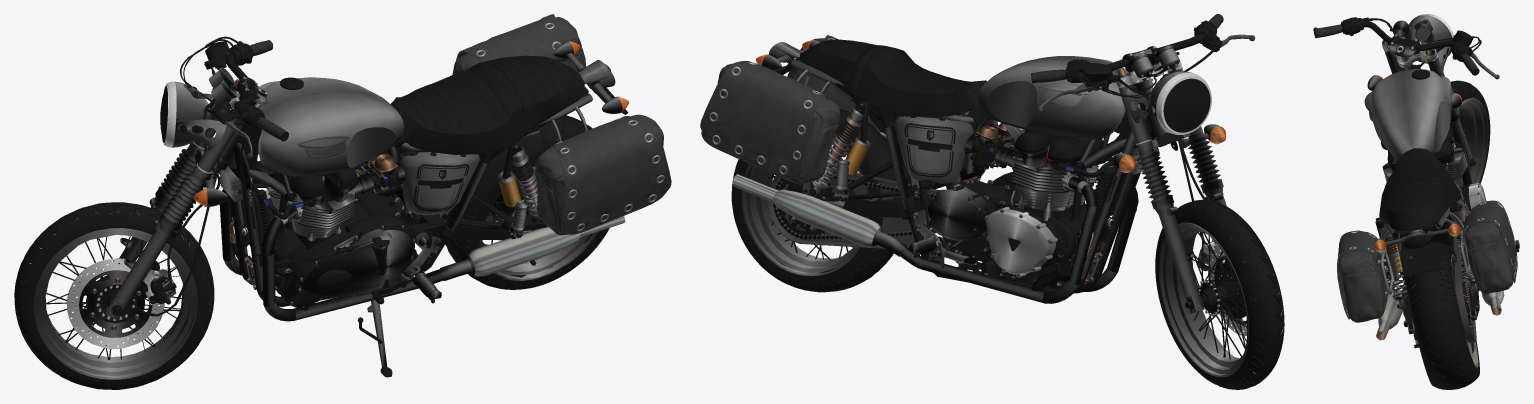
The model's file is triumph-bonneville.glb.
3 views of the same model, side by side, from view 1: azimuth 30°, elevation 25°; view 2: azimuth 150°, elevation 25°; view 3: azimuth 270°, elevation 25° (orthographic). The views are drawn at different scales.
Parts seen in each view (by area): view 1: body, wheel_rear_mesh, wheel_front_mesh; view 2: body, wheel_rear_mesh, wheel_front_mesh; view 3: body, wheel_front_mesh, wheel_rear_mesh.
Boxes of the visible parts, box(x1,y1,x2,y2) form: body: box(16, 14, 671, 389); wheel_rear_mesh: box(14, 202, 214, 389); wheel_front_mesh: box(445, 115, 609, 289); body: box(700, 14, 1284, 388); wheel_rear_mesh: box(1155, 199, 1284, 389); wheel_front_mesh: box(731, 109, 901, 292); body: box(1313, 14, 1519, 388); wheel_front_mesh: box(1403, 242, 1479, 389); wheel_rear_mesh: box(1450, 80, 1490, 184).
Size of the model in its own units: 2.2 by 1.12 by 0.8813.
100 materials, 99 textured.
